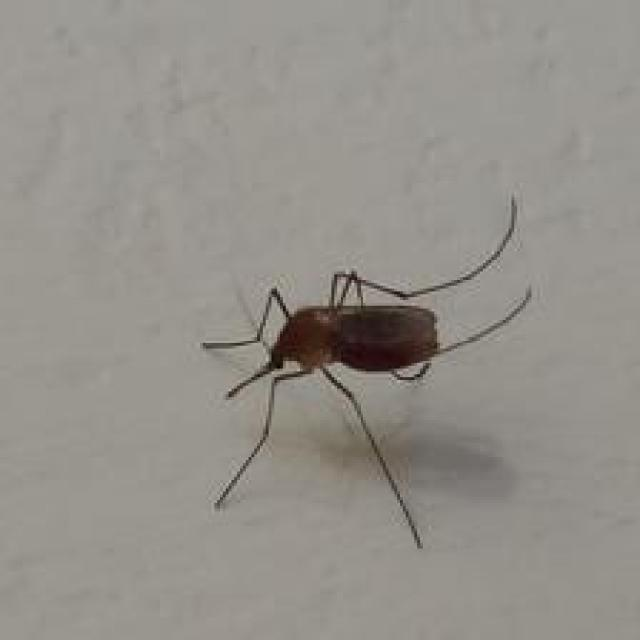Culex: (198, 193, 533, 550)
